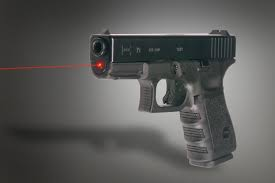gun: (87, 28, 239, 168)
